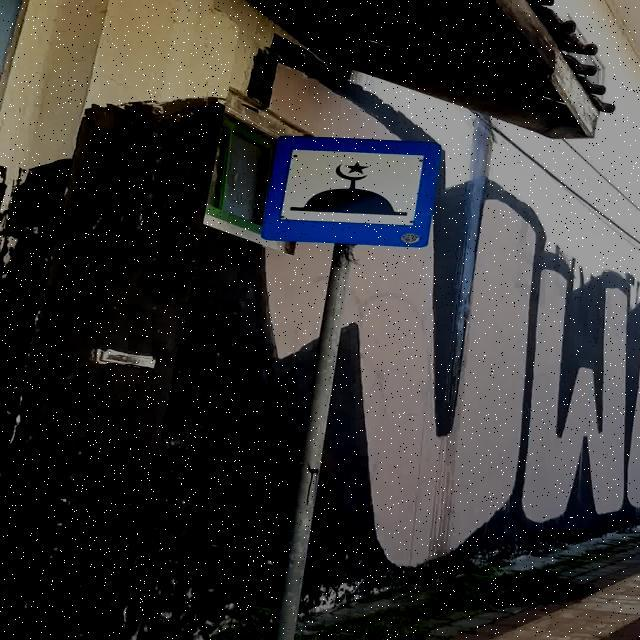Masjid: (260, 135, 442, 248)
